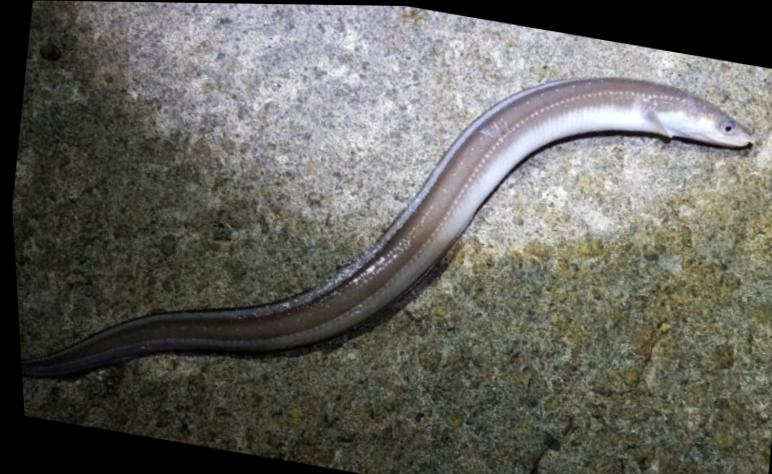fish: (17, 75, 752, 379)
